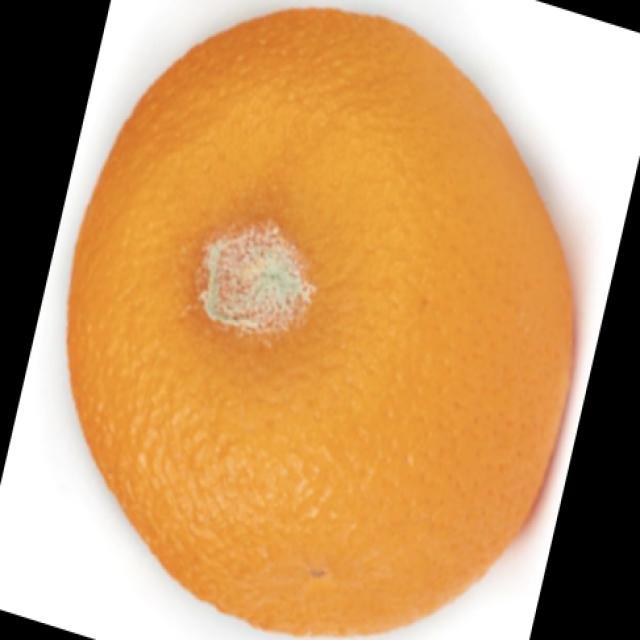sedikit-busuk: (68, 10, 572, 634)
